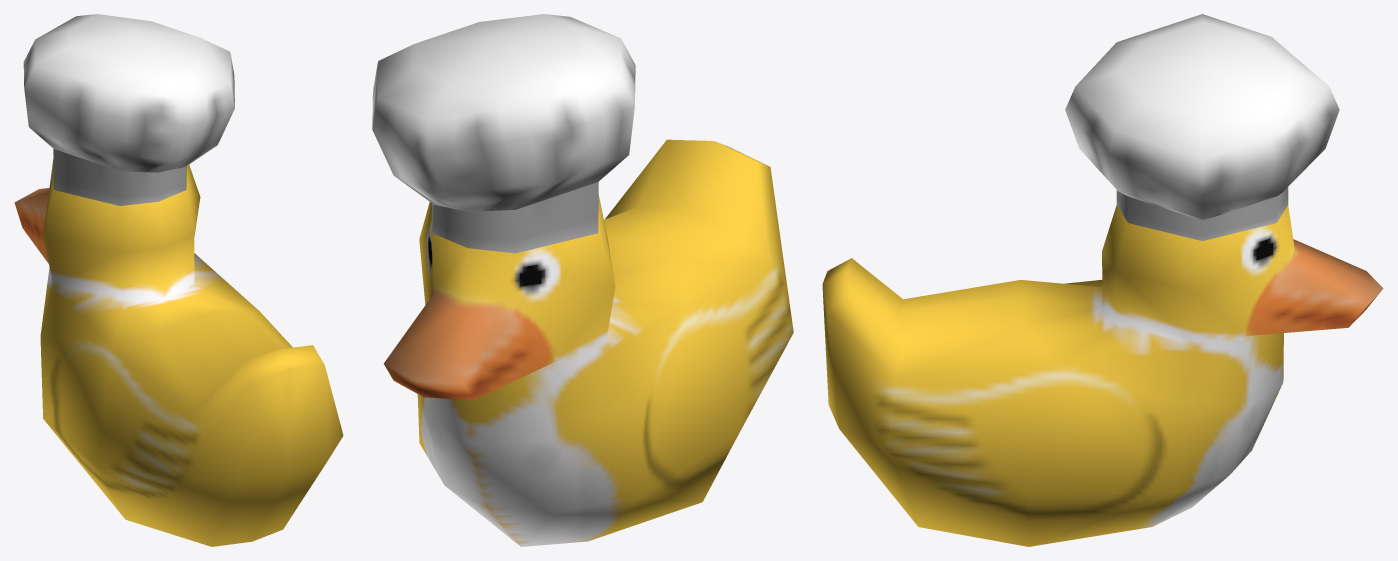
Rendered from duck_nox.fbx.
3 views of the same model, side by side, from view 1: azimuth 30°, elevation 25°; view 2: azimuth 150°, elevation 25°; view 3: azimuth 270°, elevation 25° (orthographic). The views are drawn at different scales.
Visible parts, largest first — view 1: nox; view 2: nox; view 3: nox.
Part boxes in pixels (bbox=[...]): nox: bbox=[14, 14, 343, 546]; nox: bbox=[372, 14, 793, 546]; nox: bbox=[822, 14, 1383, 546].
Bounding box in the file's own units: 0.1172 × 0.2139 × 0.2373.
